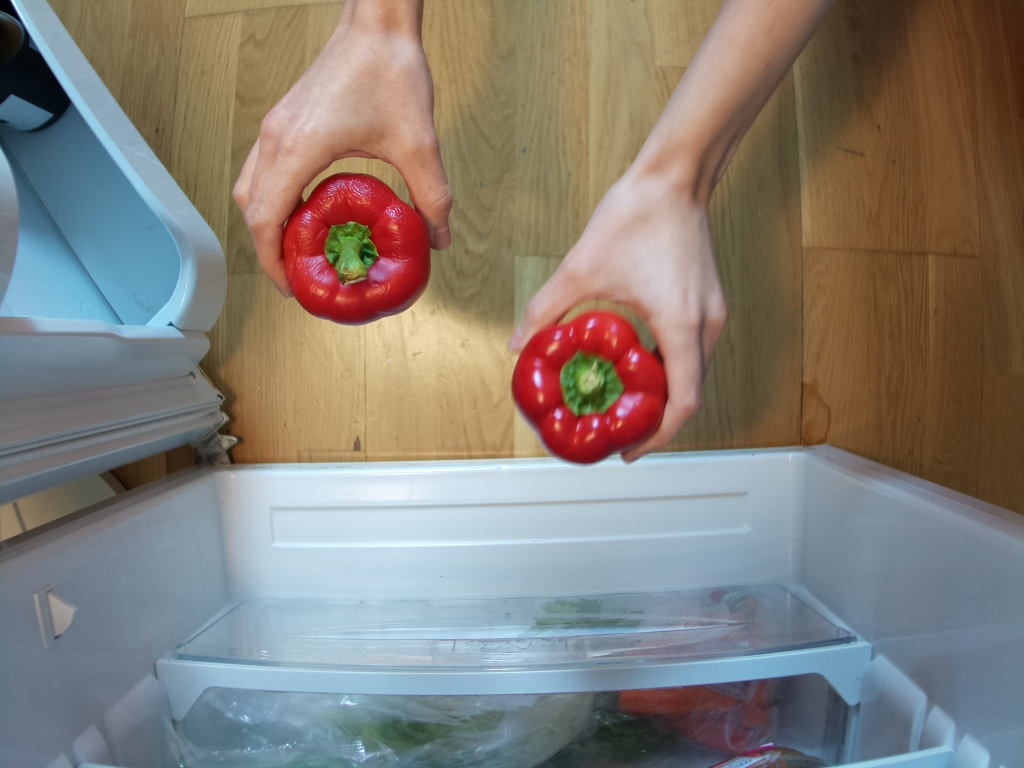pepper: (513, 308, 667, 466)
pepper-bad: (283, 171, 431, 328)
